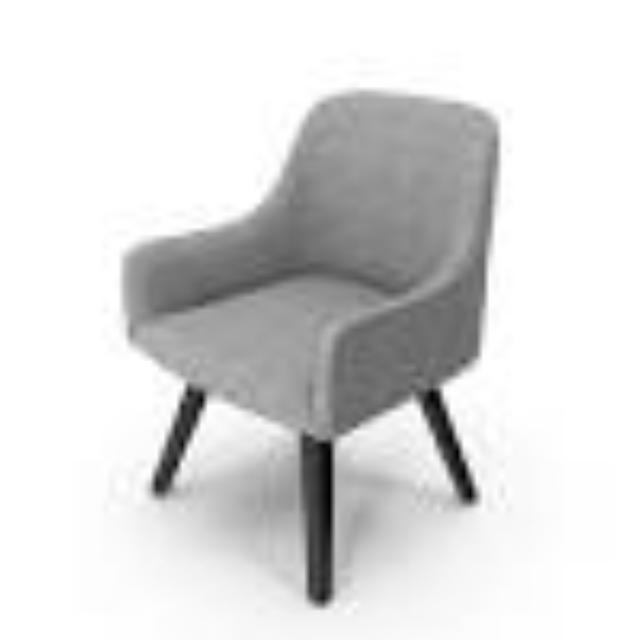obstacle: (78, 36, 608, 640)
